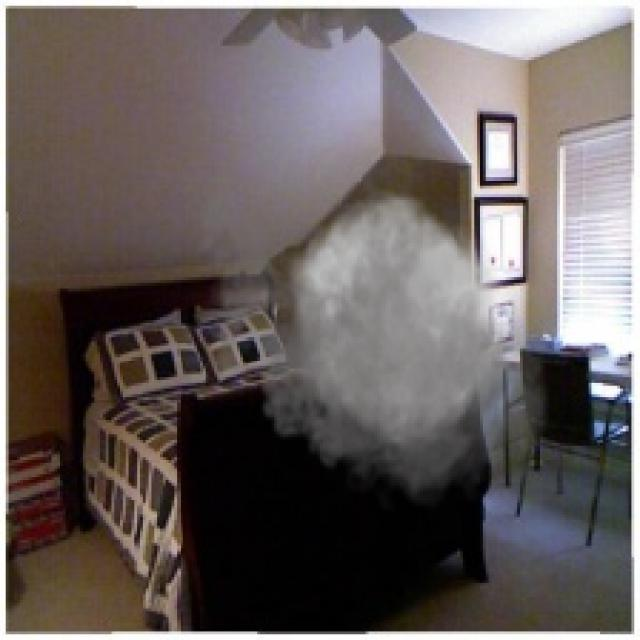smoke: (188, 123, 563, 520)
